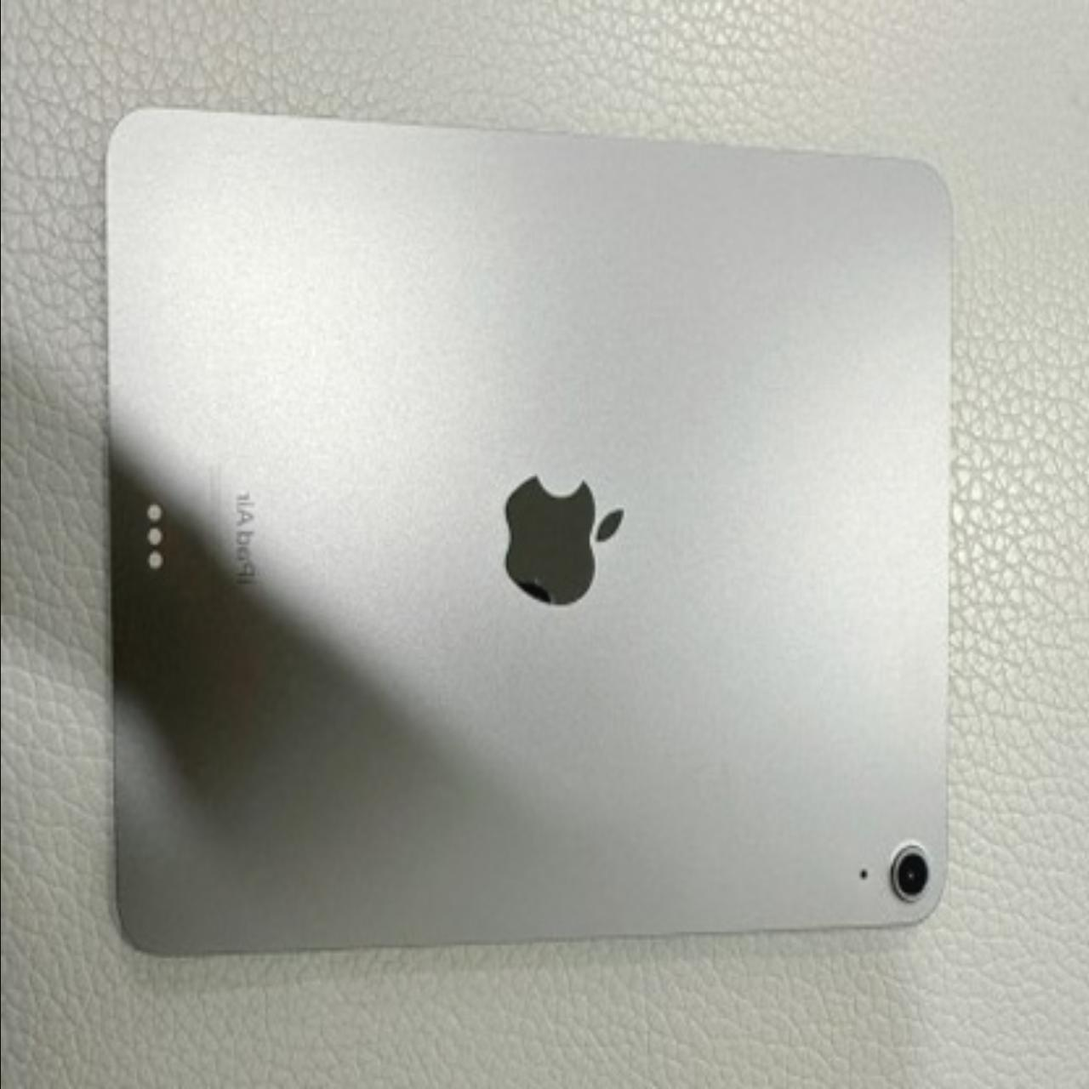Tablet_PC: (74, 83, 966, 968)
